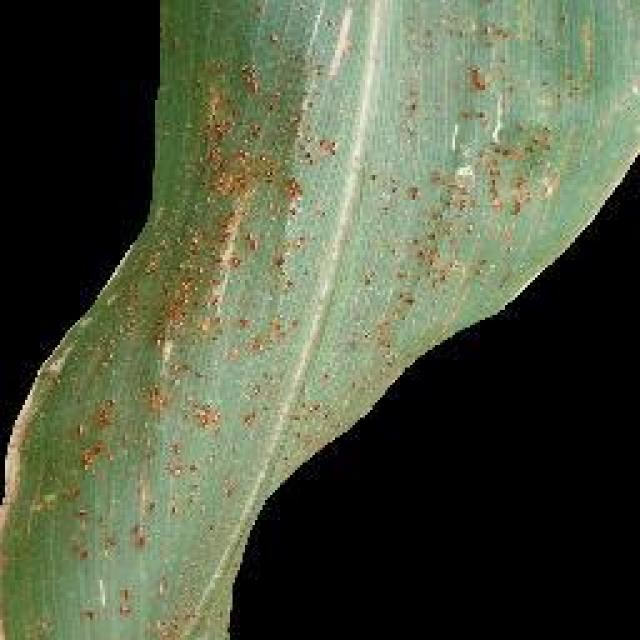Corn Common Rust: (160, 89, 473, 558)
